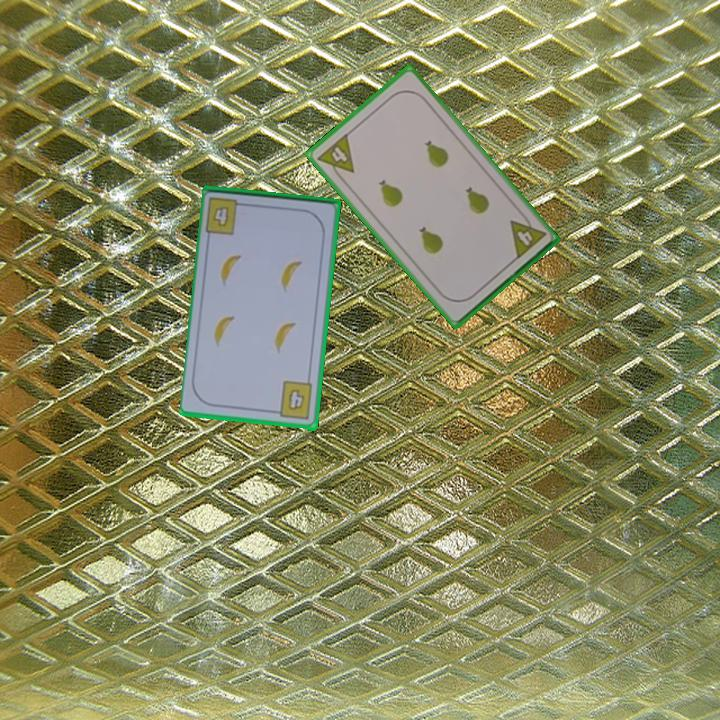4b: (270, 378, 315, 423), (209, 205, 232, 230)
4p: (313, 130, 357, 184), (506, 209, 549, 262)
